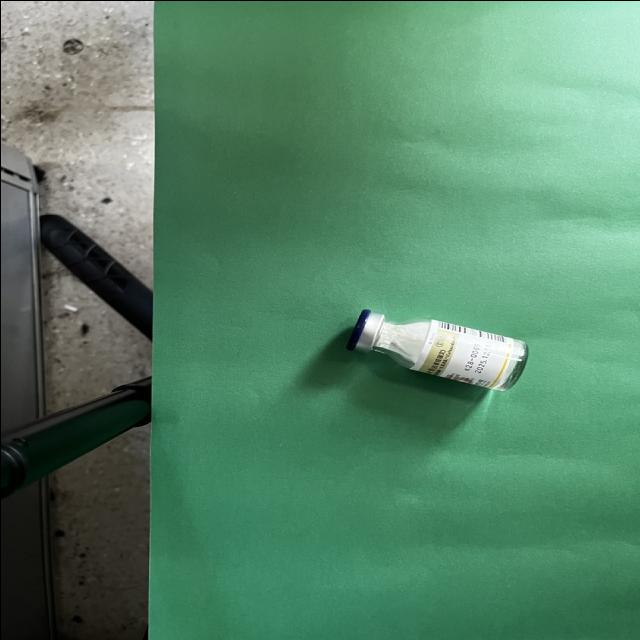Vials: (345, 308, 526, 390)
